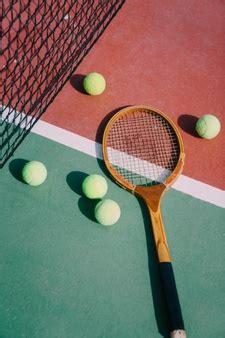tennis_ball: (93, 198, 121, 226), (80, 173, 108, 199), (195, 113, 221, 140), (21, 160, 48, 186), (83, 72, 106, 96)
